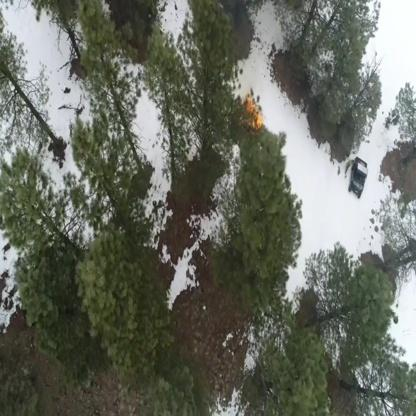Fire: (245, 94, 264, 132)
